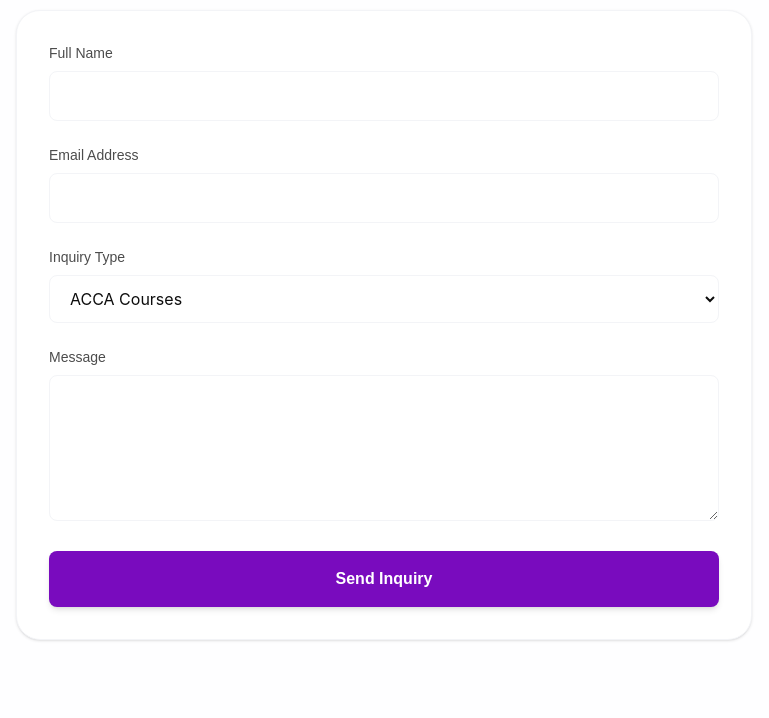
Test case: ContactPage Component › shows Validation Errors when submitting an Empty Form
The width and height of the screenshot is (769, 718).
(page scrolled)
Click the button "Send Inquiry" at (384, 579), box [49,551,719,607]
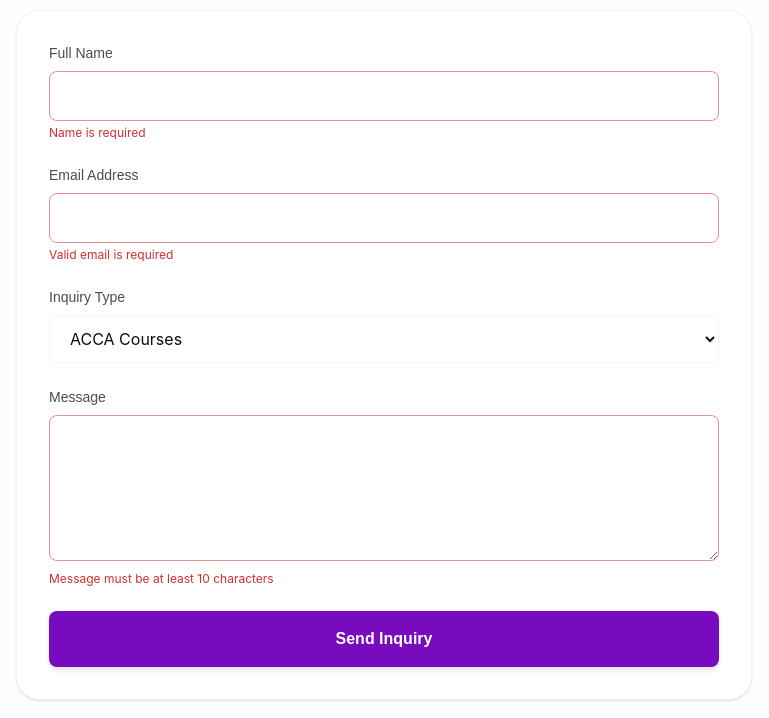
Now the text "Name is required" is shown, box [49,125,146,140]
Now the text "Valid email is required" is shown, box [49,247,173,262]
Now the text "Message must be at least 10 characters" is shown, box [49,571,274,586]
